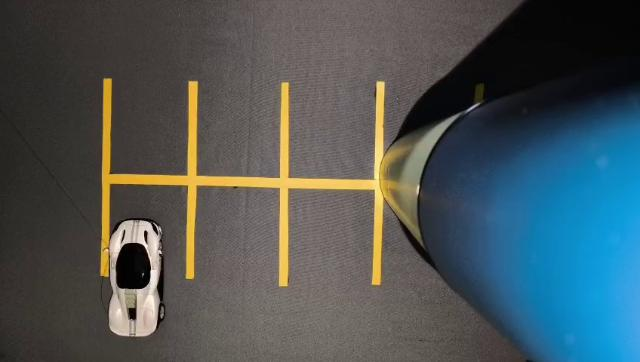toy_car: (81, 199, 192, 352)
